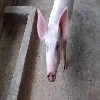heo: (35, 6, 68, 84)
